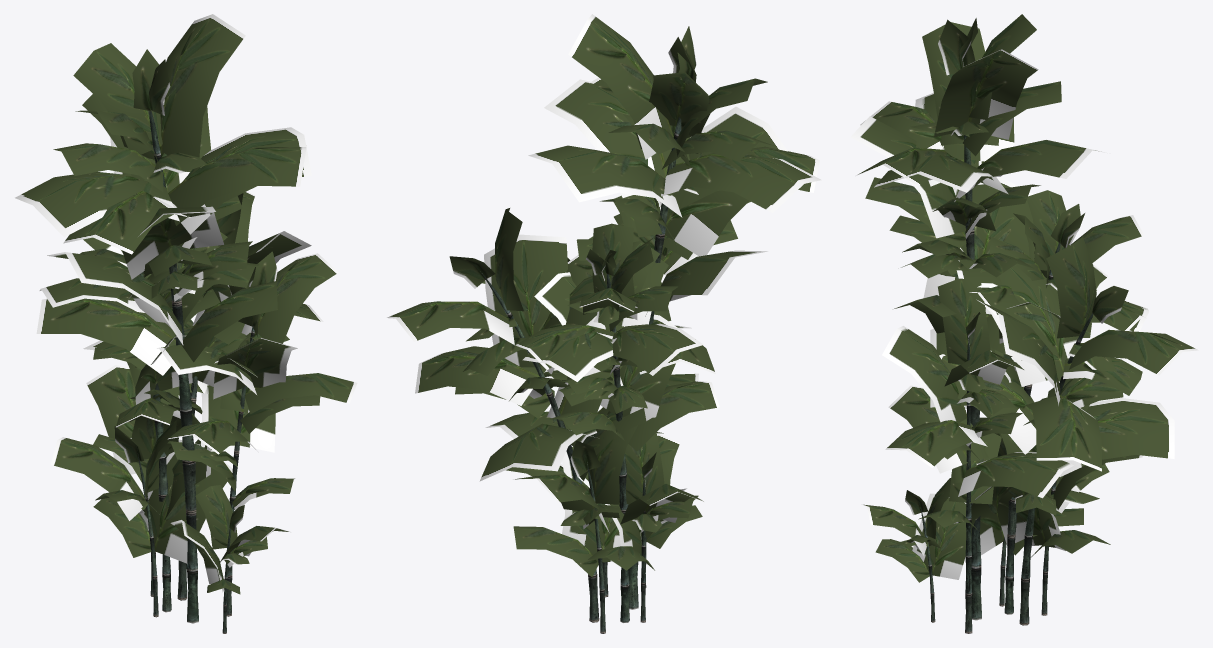
The model's file is bamboo_type3_group2.fbx.
3 views of the same model, side by side, from view 1: azimuth 30°, elevation 25°; view 2: azimuth 150°, elevation 25°; view 3: azimuth 270°, elevation 25° (orthographic).
Parts seen in each view (by area): view 1: bamboo_type3_group2; view 2: bamboo_type3_group2; view 3: bamboo_type3_group2.
Part boxes in pixels (x1,y1,x2,y2): bamboo_type3_group2: (15,14,357,633); bamboo_type3_group2: (387,14,821,633); bamboo_type3_group2: (850,14,1198,633).
Bounding box in the file's own units: 89.72 × 152 × 82.35.
